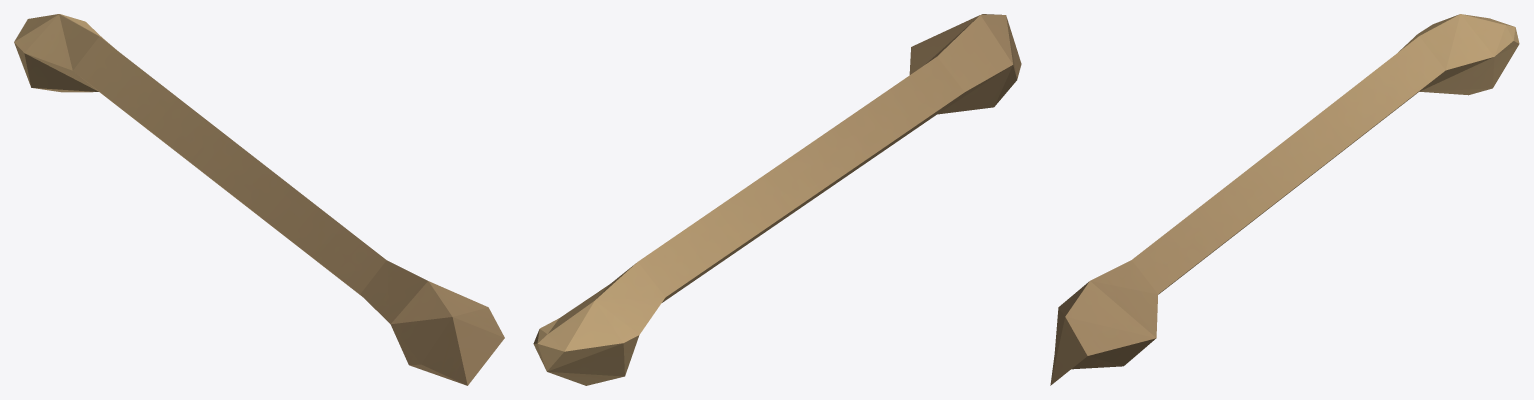
File: Skull_2.fbx
The picture shows the model from 3 angles, left to right: view 1: azimuth 30°, elevation 25°; view 2: azimuth 150°, elevation 25°; view 3: azimuth 330°, elevation 25°; orthographic projection. The views are drawn at different scales.
Parts seen in each view (by area): view 1: pCube899; view 2: pCube899; view 3: pCube899.
Part boxes in pixels (x1,y1,x2,y2): pCube899: [14, 14, 504, 385]; pCube899: [533, 14, 1021, 385]; pCube899: [1050, 14, 1519, 385].
Bounding box in the file's own units: 0.2267 × 0.1899 × 1.71.
